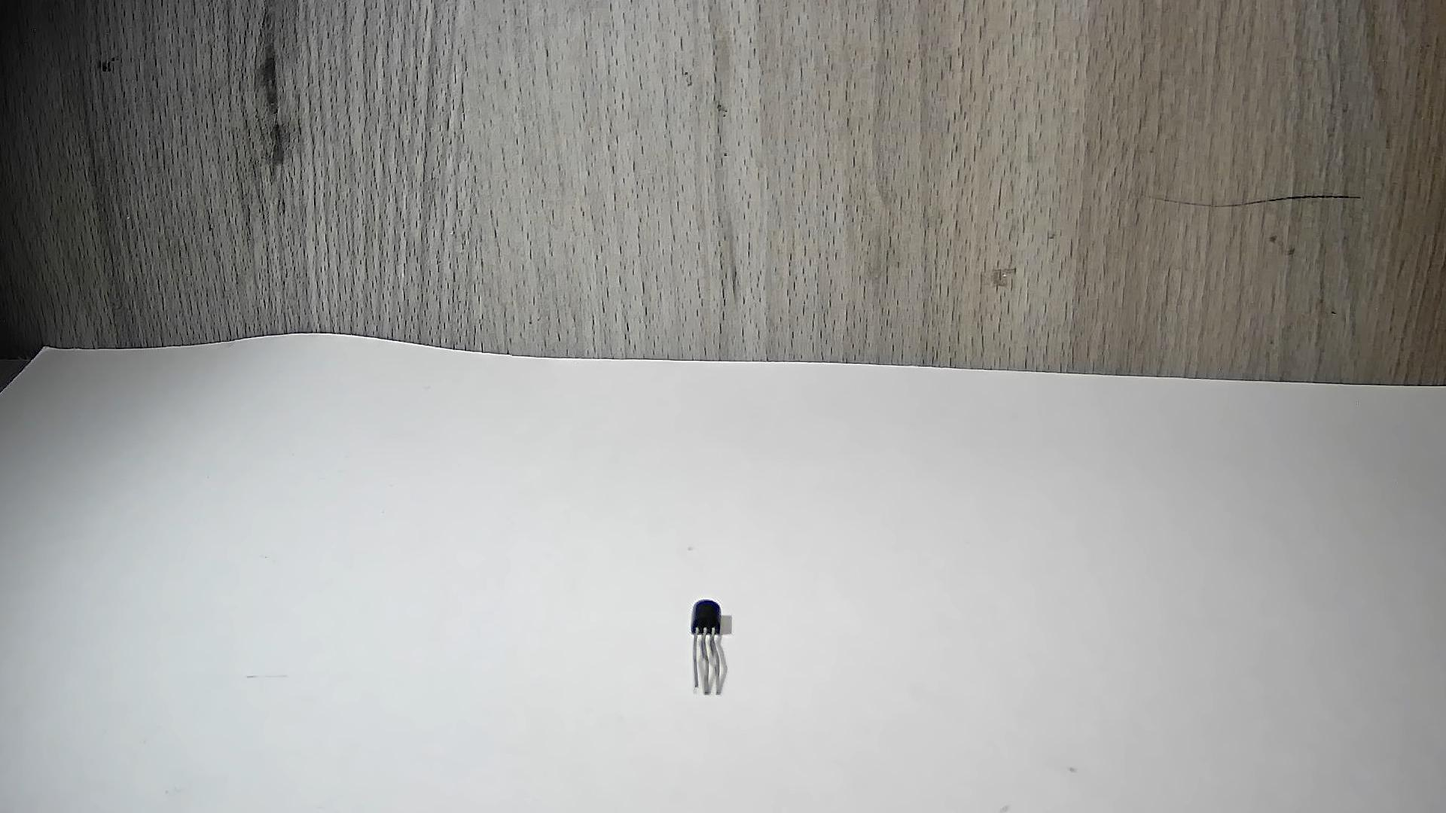Transistor: (671, 575, 756, 708)
